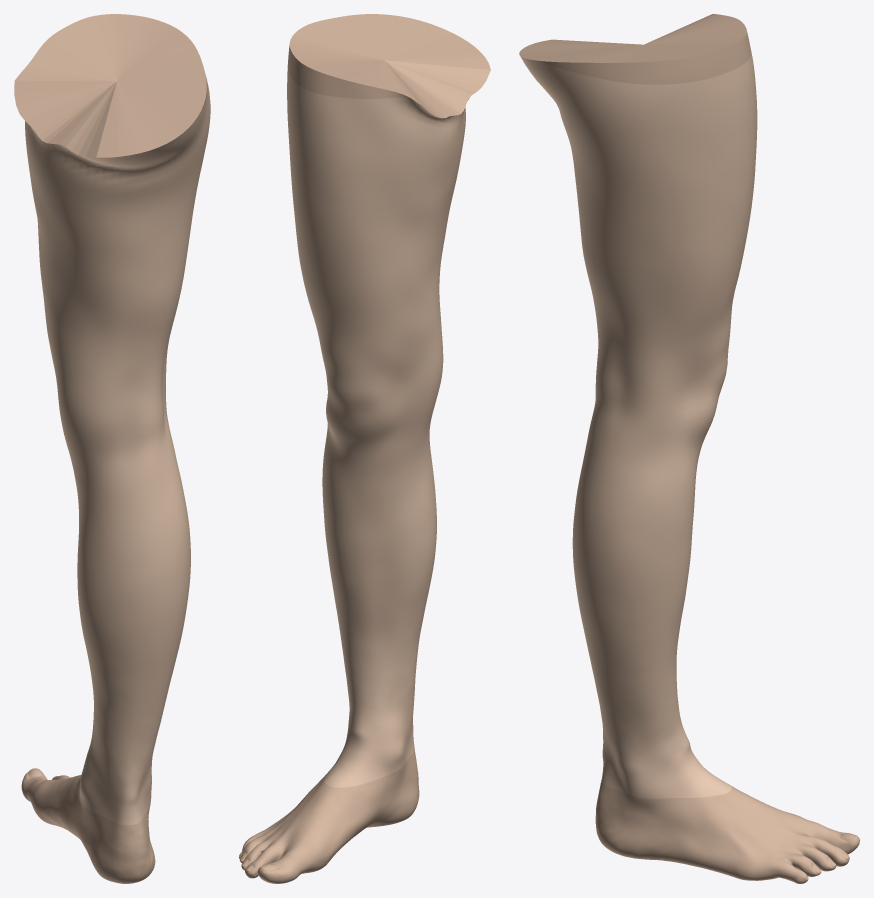
Rendered from female-leg.glb.
3 views of the same model, side by side, from view 1: azimuth 30°, elevation 25°; view 2: azimuth 150°, elevation 25°; view 3: azimuth 270°, elevation 25° (orthographic). The views are drawn at different scales.
Visible parts, largest first — view 1: paintable, context; view 2: paintable, context; view 3: paintable, context.
Boxes of the visible parts, box(x1,y1,x2,y2) form: paintable: box(25, 81, 210, 825); context: box(14, 14, 207, 883); paintable: box(287, 66, 468, 787); context: box(239, 14, 490, 883); paintable: box(520, 52, 757, 798); context: box(519, 14, 859, 883).
Bounding box in the file's own units: 186 × 901 × 335.
